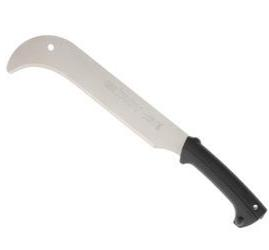MACHETTE: (1, 25, 268, 230)
